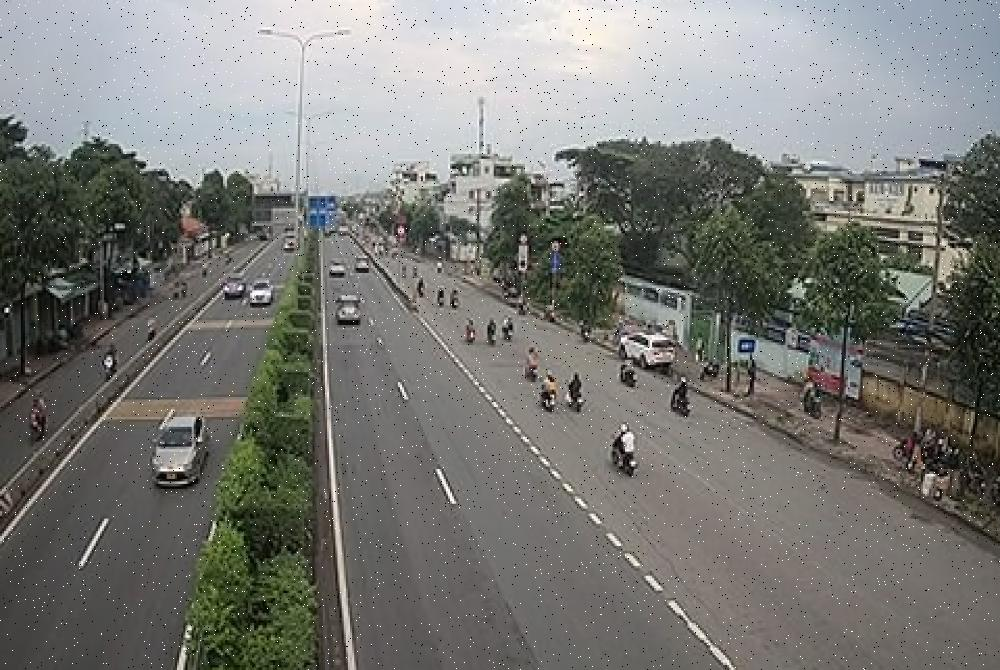car: (148, 410, 206, 493)
